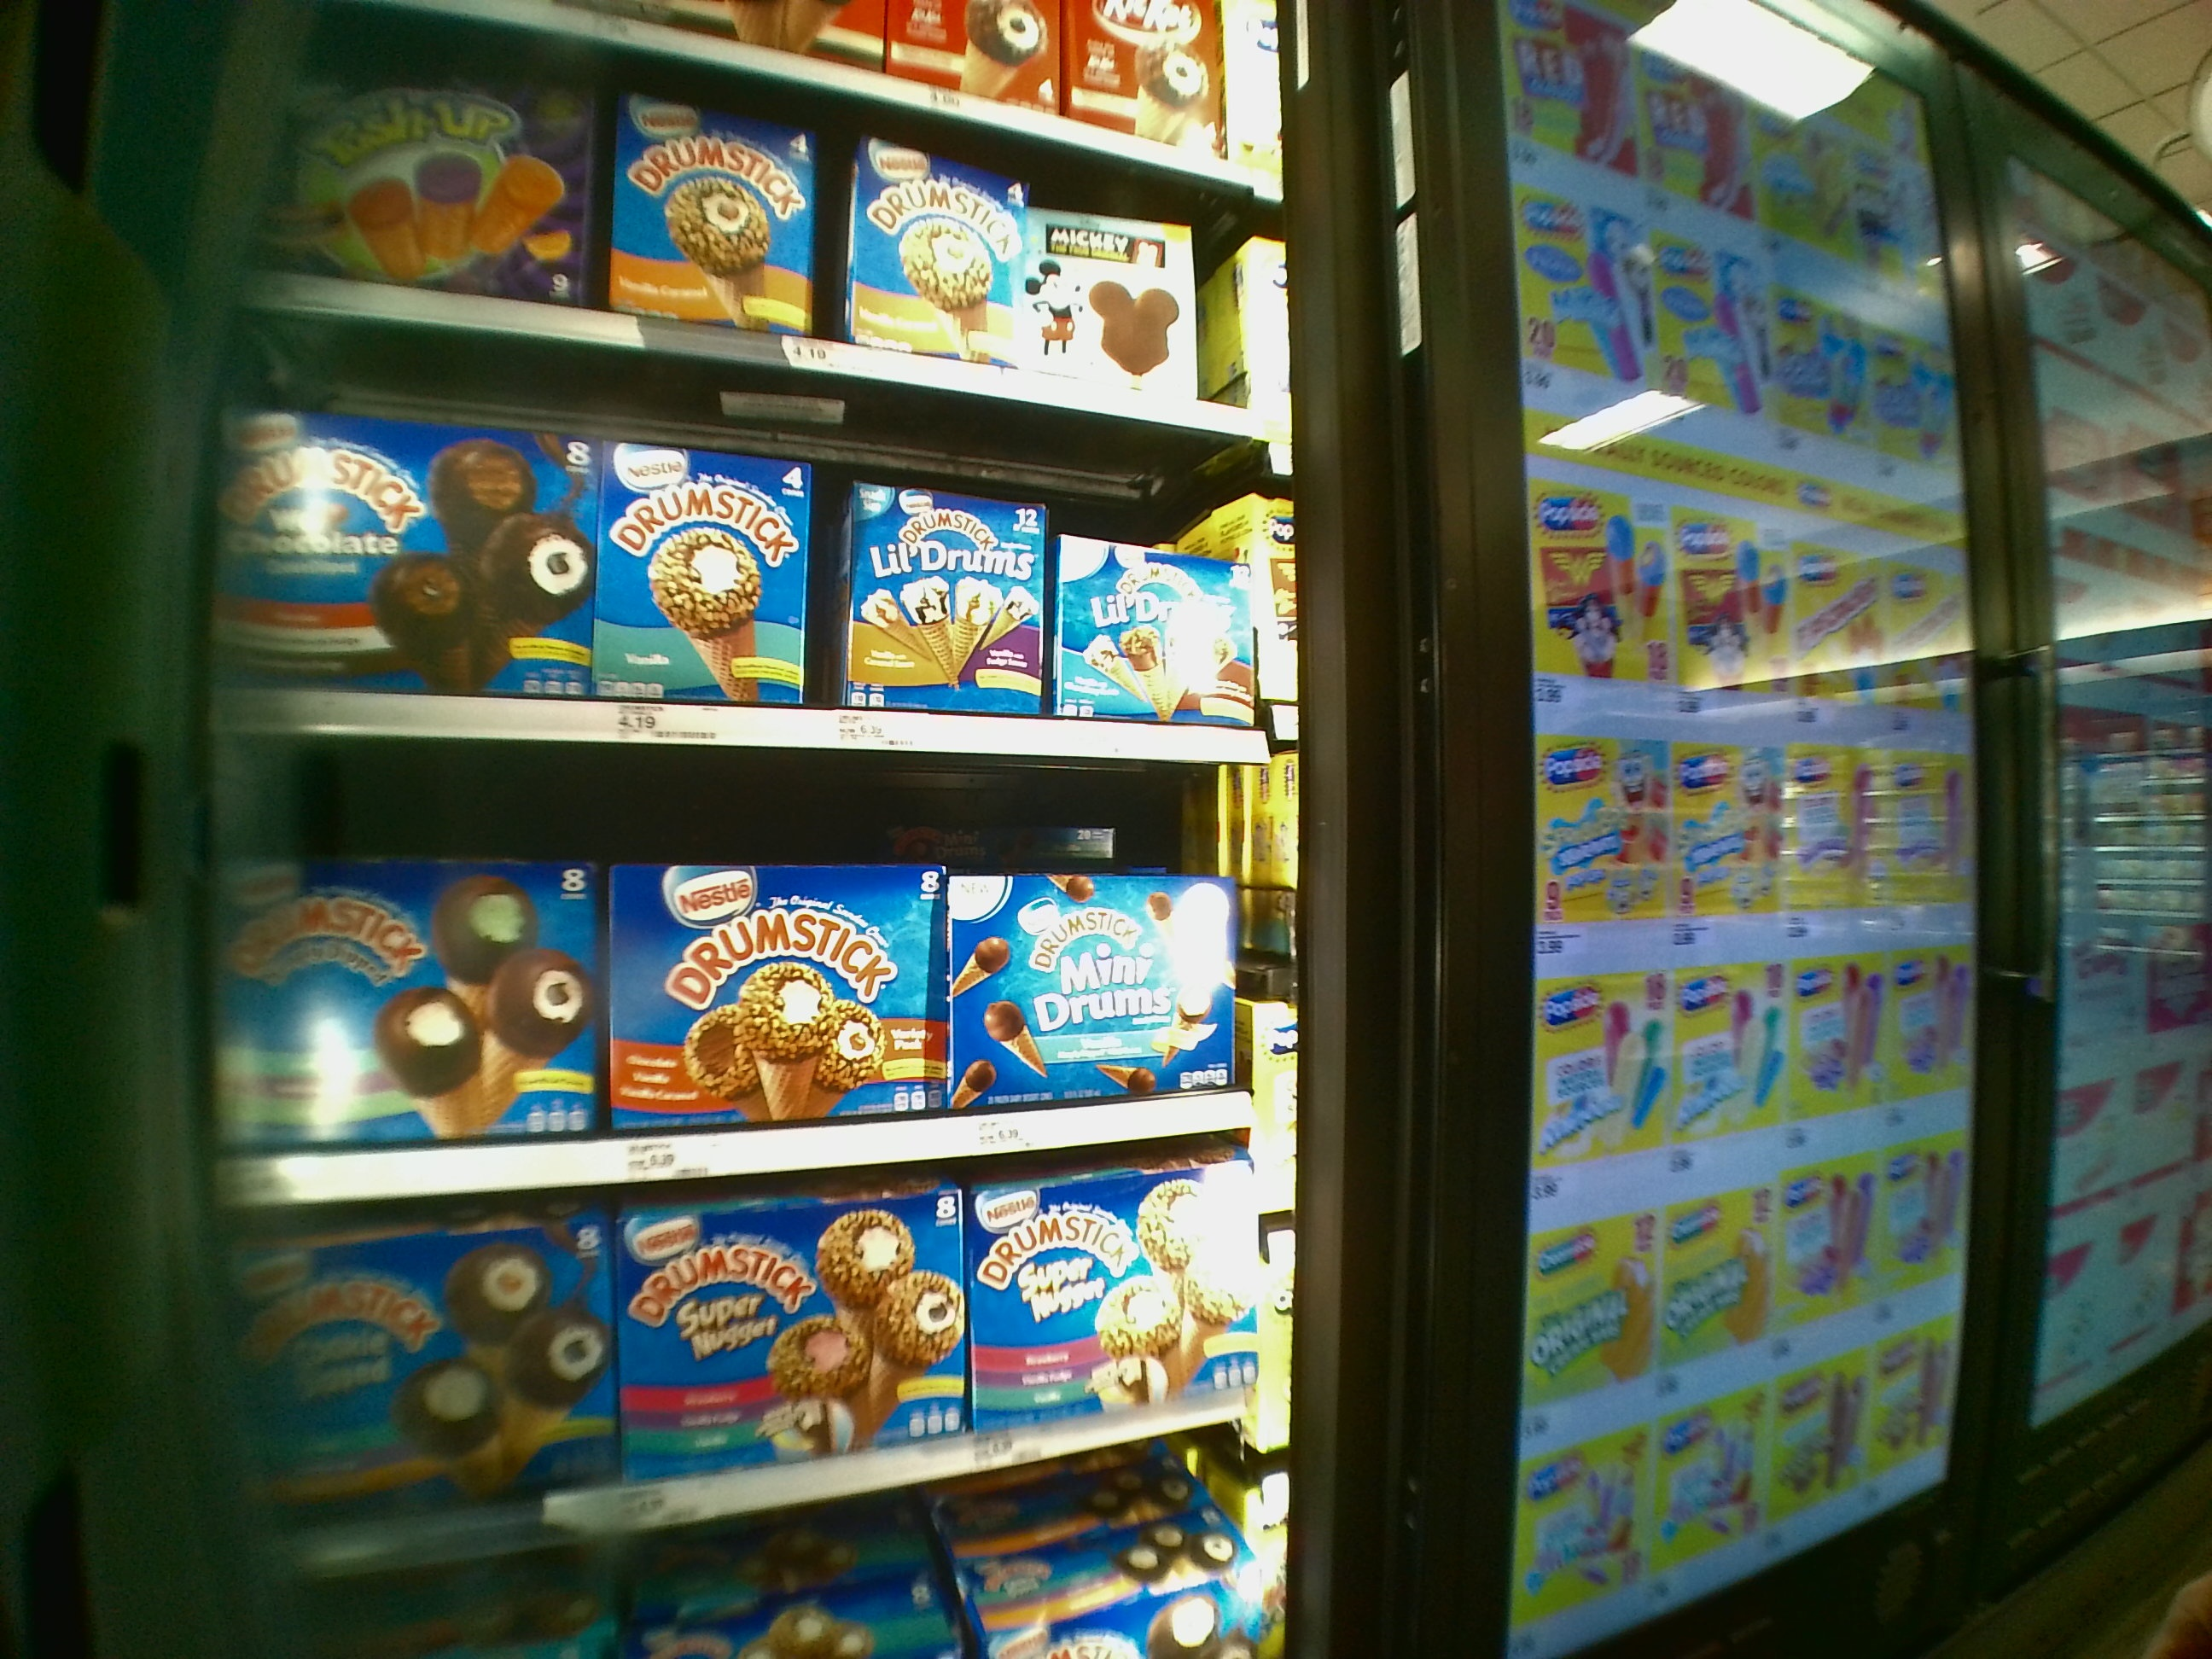shelf: (195, 775, 1305, 1173), (226, 1178, 1285, 1532), (212, 413, 1296, 758)
